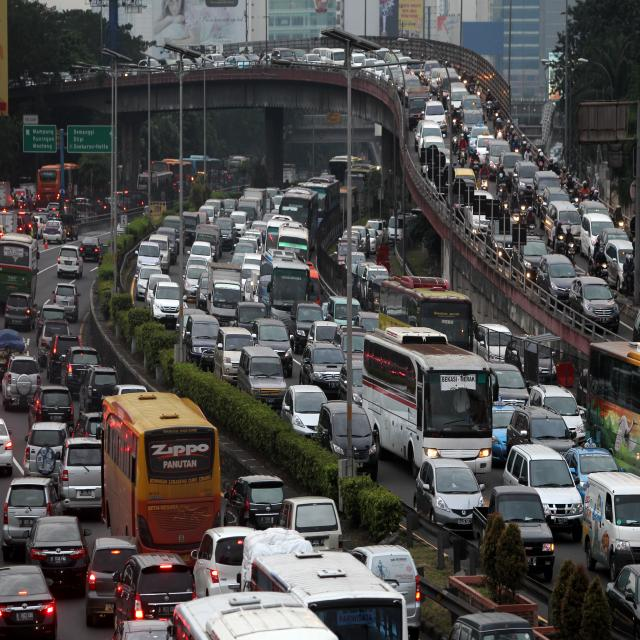bus: (101, 392, 221, 555), (362, 326, 492, 474), (586, 343, 640, 476), (379, 278, 474, 352), (259, 249, 310, 330), (0, 232, 39, 309), (280, 188, 319, 249)
car: (472, 486, 555, 581), (504, 444, 582, 540), (582, 472, 640, 581), (114, 553, 195, 630), (1, 476, 65, 559), (414, 459, 484, 531), (86, 536, 138, 626), (25, 516, 89, 587), (0, 564, 58, 639), (192, 527, 252, 598), (506, 405, 572, 456), (281, 497, 342, 551), (529, 384, 585, 441), (224, 476, 284, 529), (60, 437, 101, 510), (238, 347, 286, 409), (24, 422, 70, 486), (569, 278, 620, 334), (565, 448, 619, 499), (281, 384, 326, 437), (300, 343, 345, 396), (251, 319, 292, 377), (2, 354, 41, 411), (214, 326, 251, 382), (29, 386, 75, 428), (79, 366, 119, 414), (60, 347, 100, 394), (536, 255, 575, 302), (185, 315, 219, 368), (45, 334, 80, 382), (490, 364, 529, 407), (290, 302, 322, 352), (580, 214, 614, 257), (545, 201, 581, 240), (151, 281, 180, 326), (5, 292, 36, 330), (54, 281, 80, 322), (184, 257, 208, 298), (136, 240, 161, 276), (58, 244, 82, 278), (424, 101, 448, 135)
truck: (208, 262, 241, 324), (408, 86, 430, 129)
